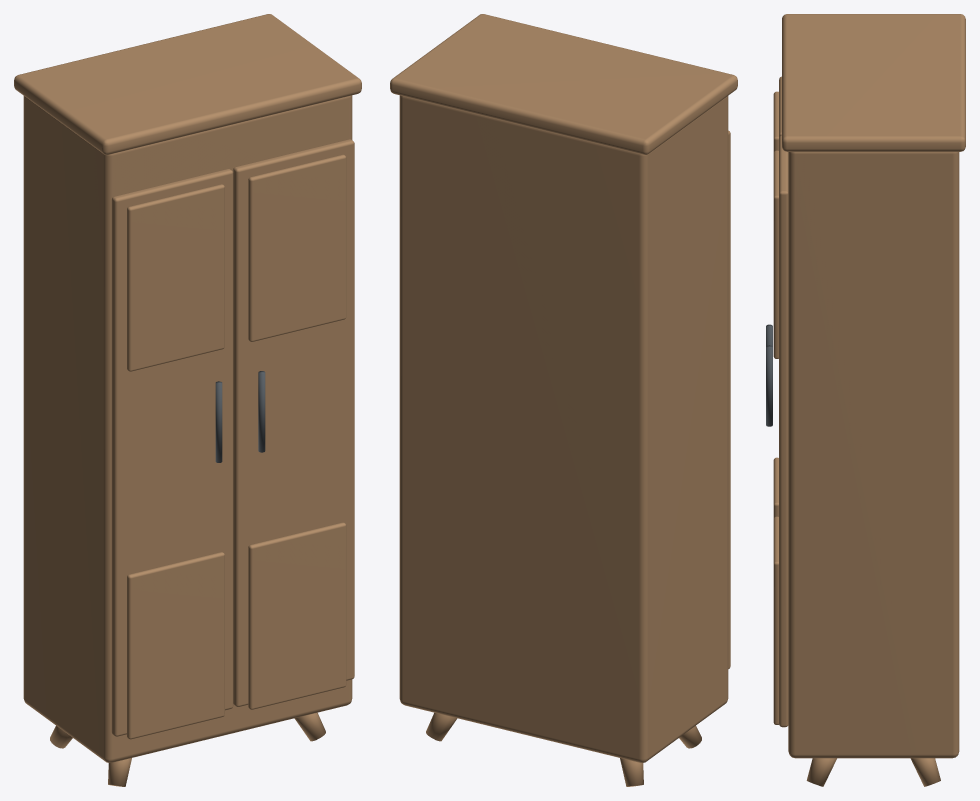
Rendered from atelier-storage-cabinet.glb.
3 renders of one model, left to right at view 1: azimuth 30°, elevation 25°; view 2: azimuth 150°, elevation 25°; view 3: azimuth 270°, elevation 25°, orthographic.
Visible parts, largest first — view 1: legs.086, metal.030; view 2: legs.086; view 3: legs.086, metal.030.
Part boxes in pixels (x1,y1,x2,y2): legs.086: (14, 14, 361, 786); metal.030: (215, 371, 265, 462); legs.086: (390, 14, 737, 786); legs.086: (773, 14, 965, 786); metal.030: (766, 324, 772, 426).
Bounding box in the file's own units: 0.785 × 1.93 × 0.5265.
